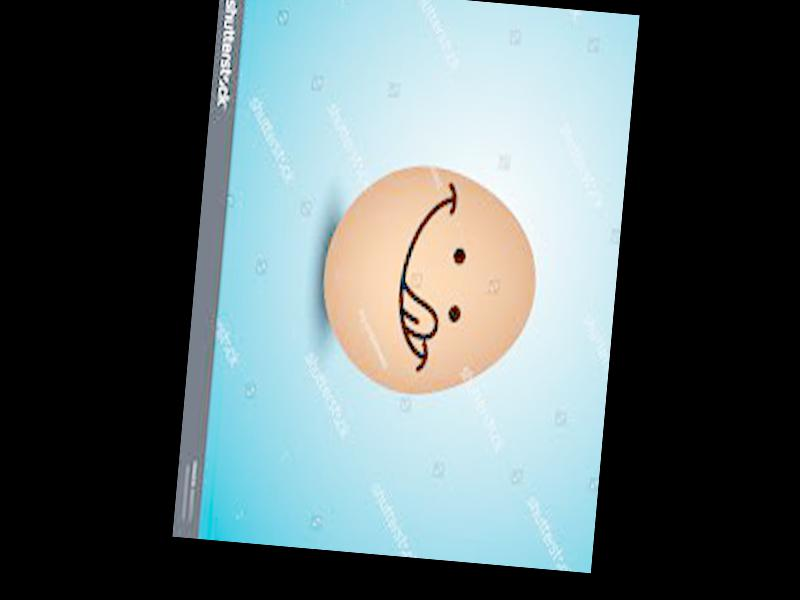Eggs: (314, 157, 545, 404)
